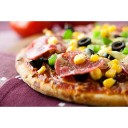pepperonipizza: (16, 29, 128, 105)
